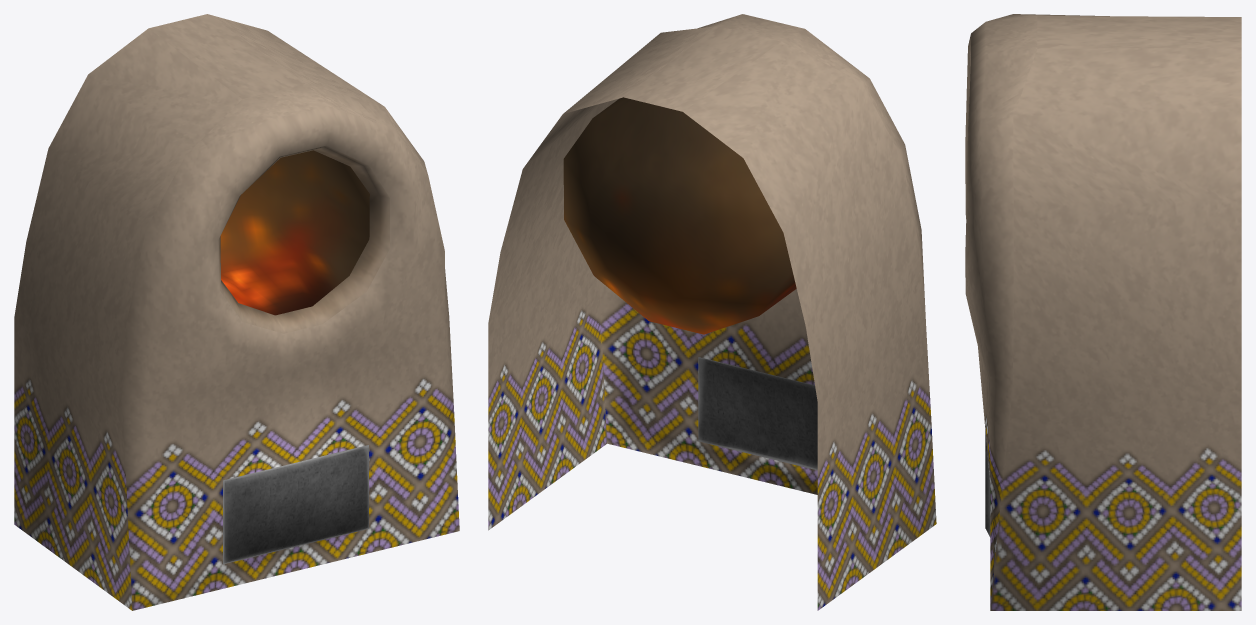
File: street_restaurant_tandirlepyoshka.FBX
3 views of the same model, side by side, from view 1: azimuth 30°, elevation 25°; view 2: azimuth 150°, elevation 25°; view 3: azimuth 270°, elevation 25° (orthographic). The views are drawn at different scales.
Visible parts, largest first — view 1: street_restaurant_tandirlepyoshka; view 2: street_restaurant_tandirlepyoshka; view 3: street_restaurant_tandirlepyoshka.
Part boxes in pixels (left/top/right/bottom): street_restaurant_tandirlepyoshka: left=14, top=14, right=459, bottom=610; street_restaurant_tandirlepyoshka: left=488, top=14, right=936, bottom=610; street_restaurant_tandirlepyoshka: left=965, top=14, right=1241, bottom=610.
Bounding box in the file's own units: 145 × 196 × 99.57.
Materials: 1 (1 with a texture image).
